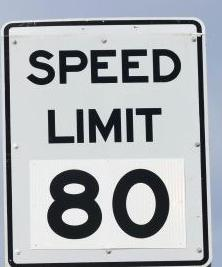Speed Limit -80-: (0, 1, 221, 266)
